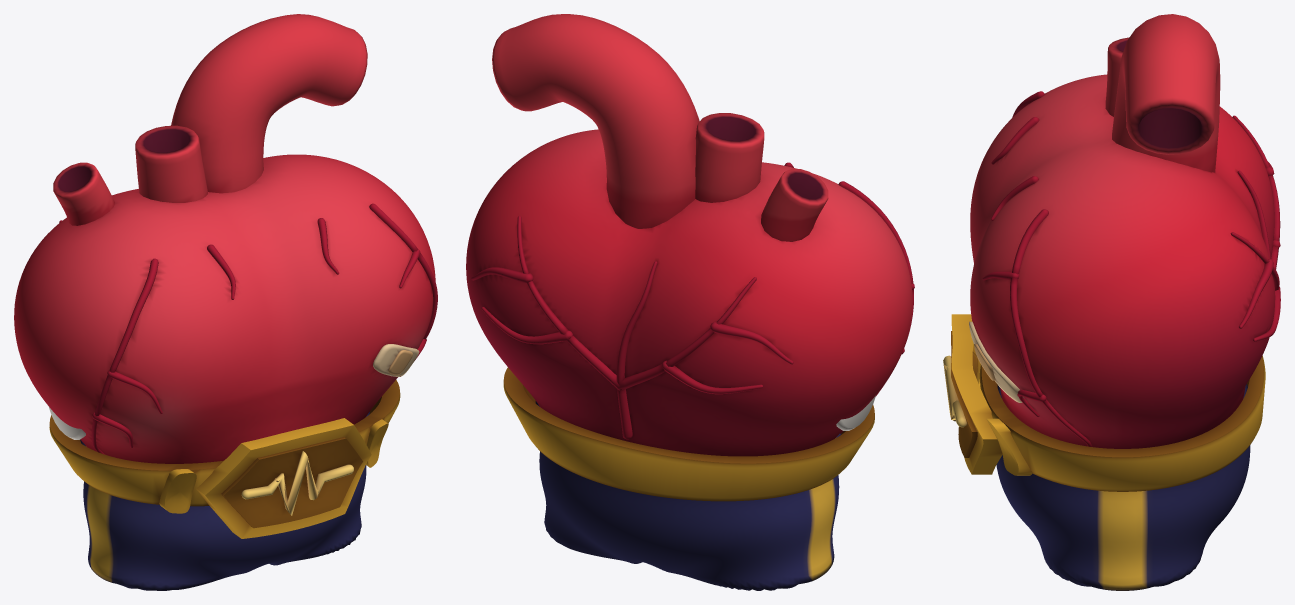
File: heart.glb
The picture shows the model from 3 angles, left to right: view 1: azimuth 30°, elevation 25°; view 2: azimuth 150°, elevation 25°; view 3: azimuth 270°, elevation 25°; orthographic projection. The views are drawn at different scales.
Visible parts, largest first — view 1: body; view 2: body; view 3: body.
Boxes of the visible parts, bbox=[...] form: body: bbox=[14, 14, 437, 590]; body: bbox=[466, 14, 914, 590]; body: bbox=[943, 14, 1280, 590].
Size of the model in its own units: 142 by 179 by 98.98.
